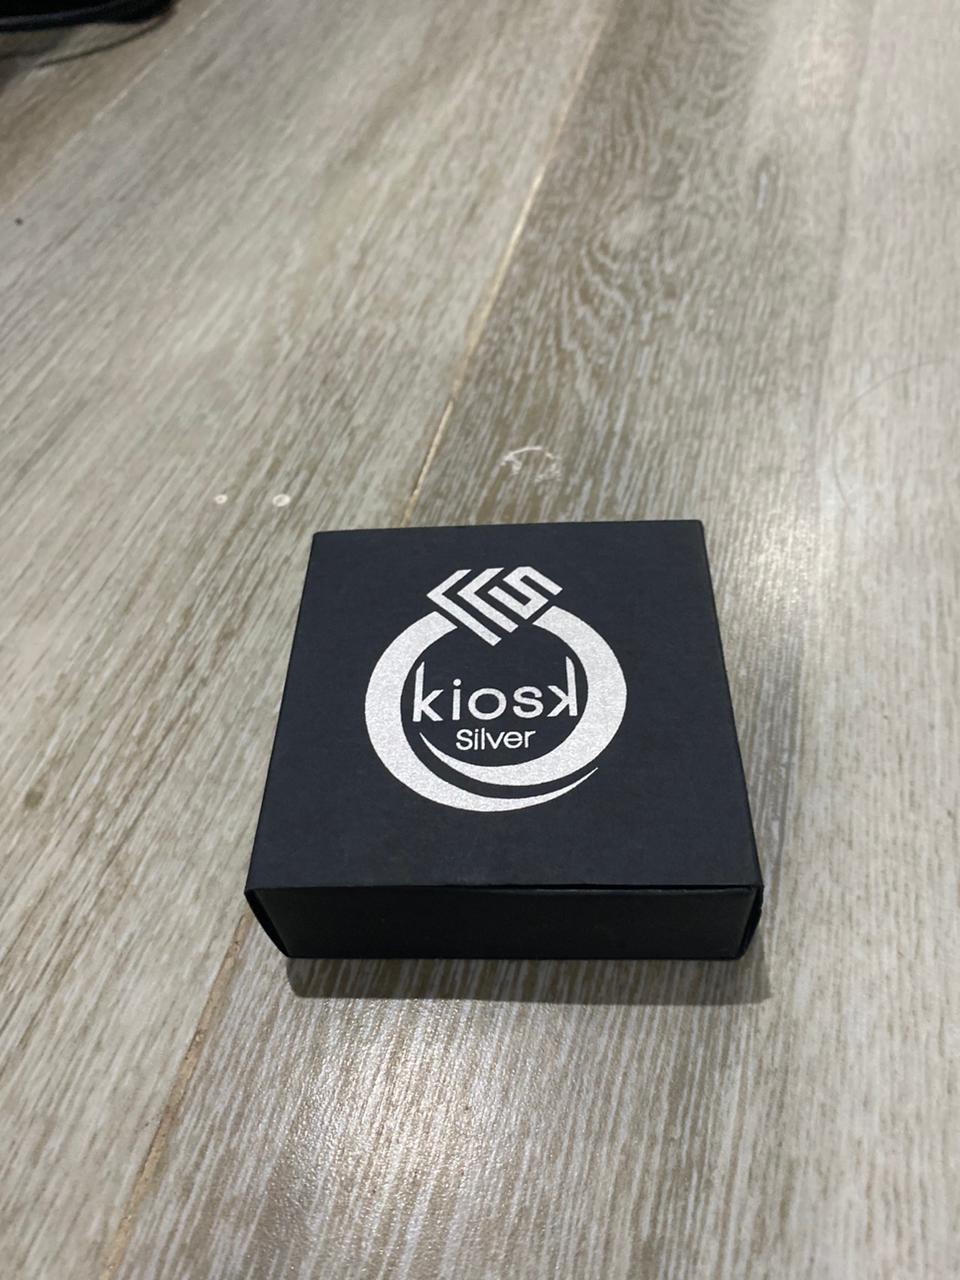Red Box: (241, 513, 772, 979)
